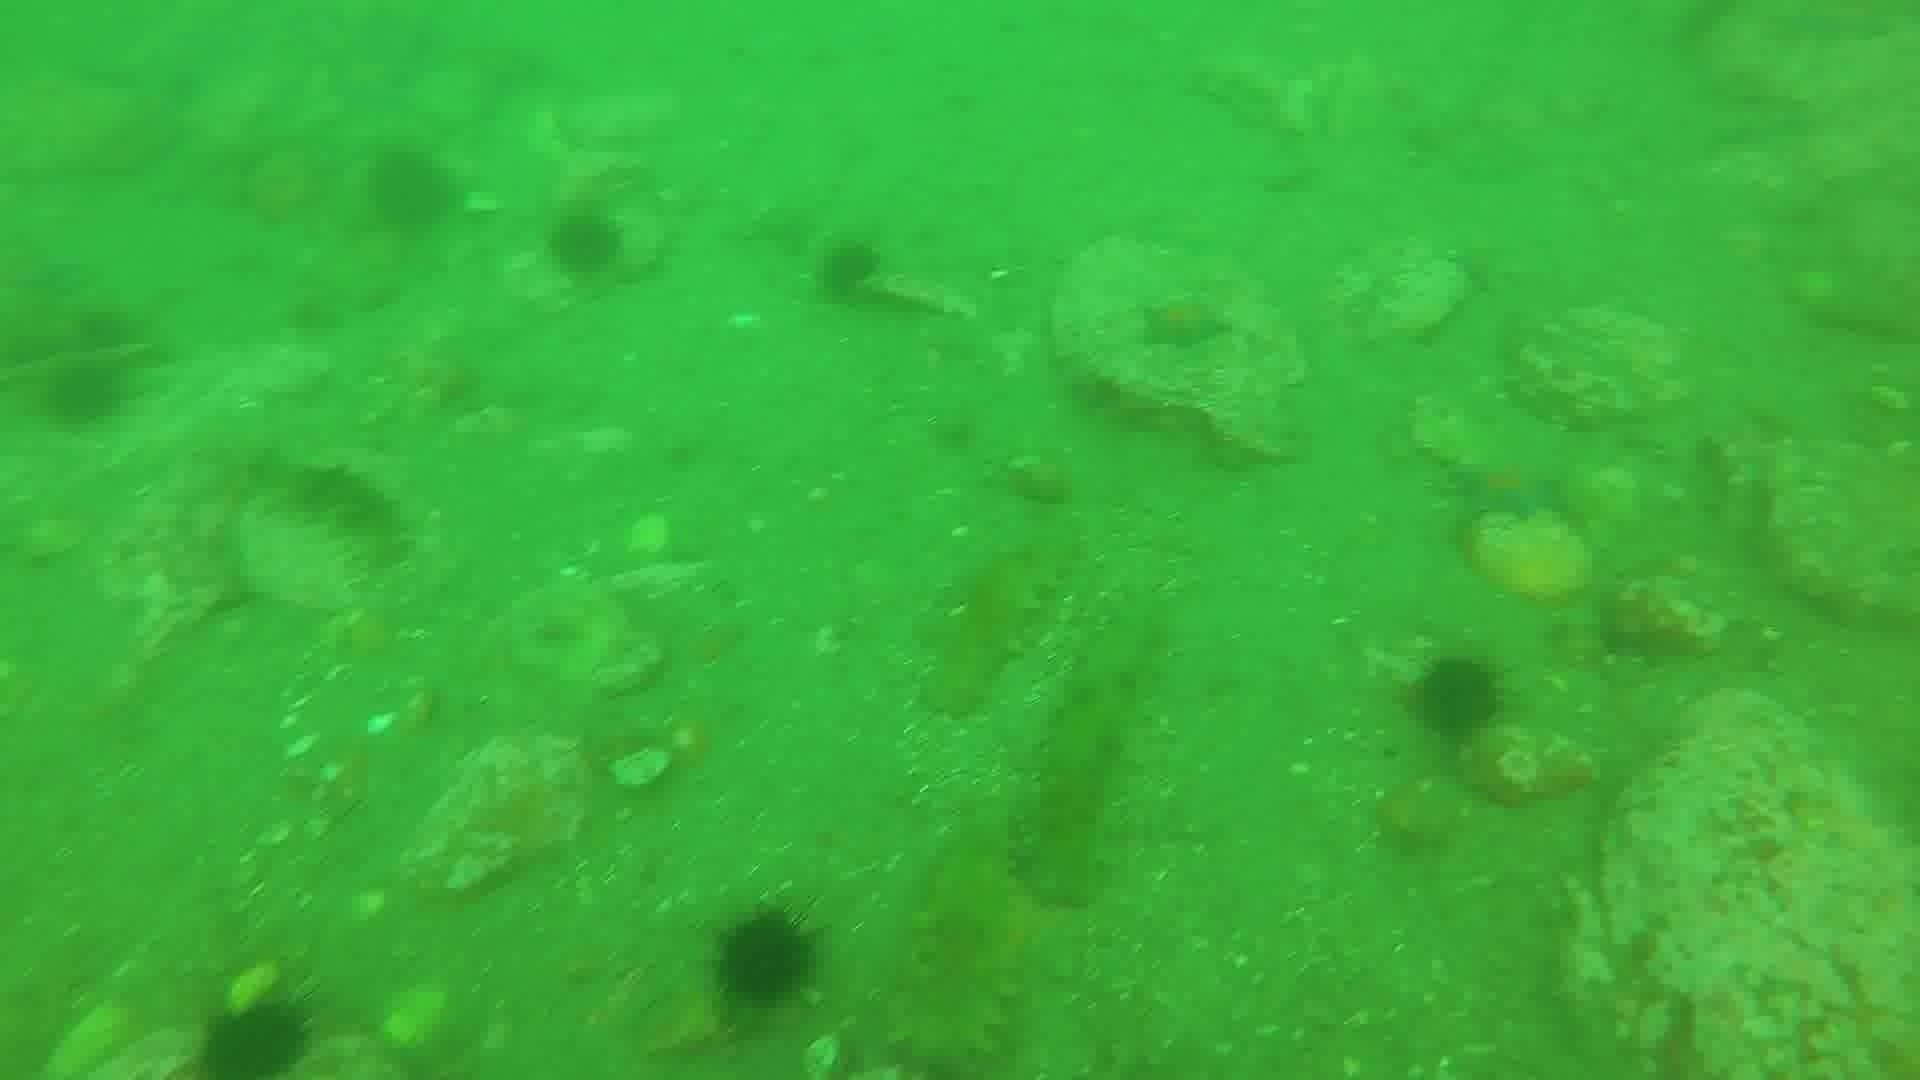echinus: (708, 906, 822, 1011), (190, 993, 318, 1076), (360, 142, 462, 239), (1404, 651, 1509, 744), (38, 356, 131, 433), (543, 207, 626, 282), (810, 235, 887, 305)
holothurian: (1005, 597, 1172, 909), (889, 827, 1029, 1076), (916, 524, 1080, 717), (237, 447, 410, 559)
starfish: (1447, 454, 1569, 526), (1131, 289, 1236, 356)
